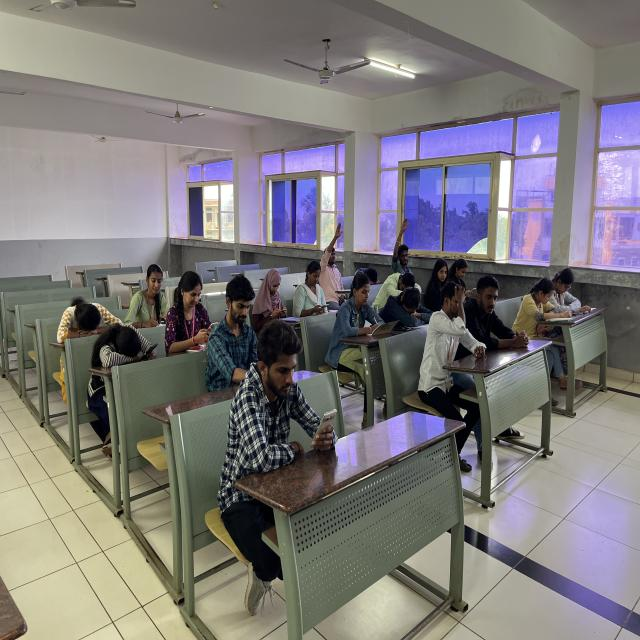Hand Rising: (317, 221, 355, 303), (388, 215, 416, 280)
Reading: (514, 271, 558, 343), (550, 265, 586, 326)
Sleeping: (89, 323, 160, 398), (54, 292, 121, 347), (377, 284, 435, 334), (375, 267, 427, 306)
Using Phone: (220, 320, 350, 554), (166, 270, 221, 359), (252, 265, 290, 334), (290, 257, 330, 320), (447, 256, 481, 308)
Writing: (332, 269, 386, 376), (128, 258, 173, 328)
